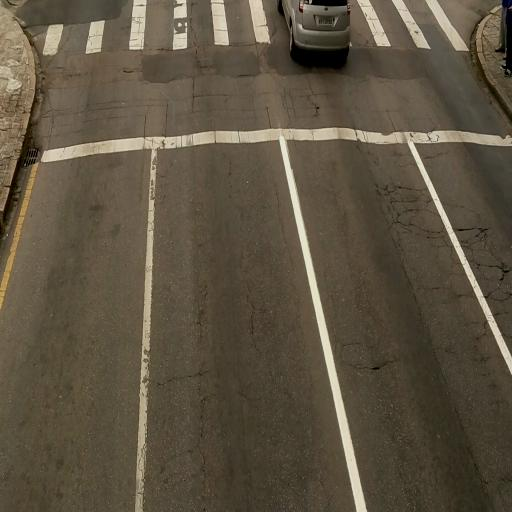car: (278, 2, 350, 59)
